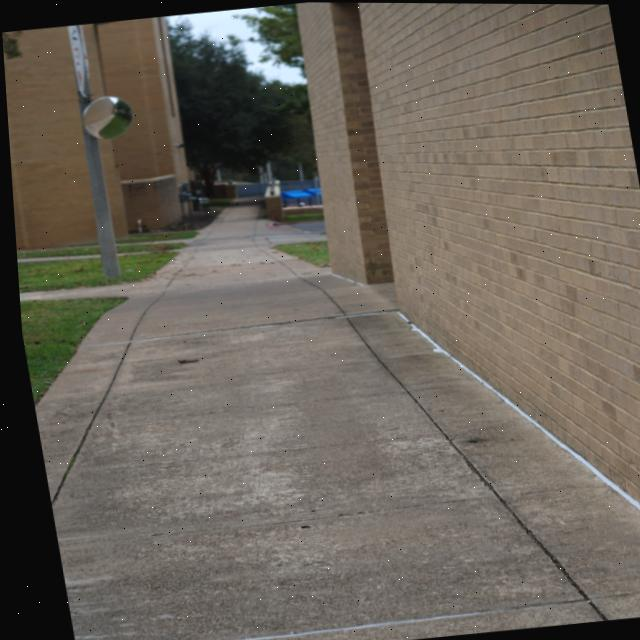Sidewalk: (15, 205, 640, 640), (13, 254, 96, 263), (114, 237, 191, 245), (114, 251, 142, 256)
